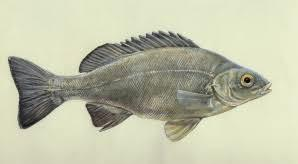Silver Perch: (7, 30, 272, 144)
